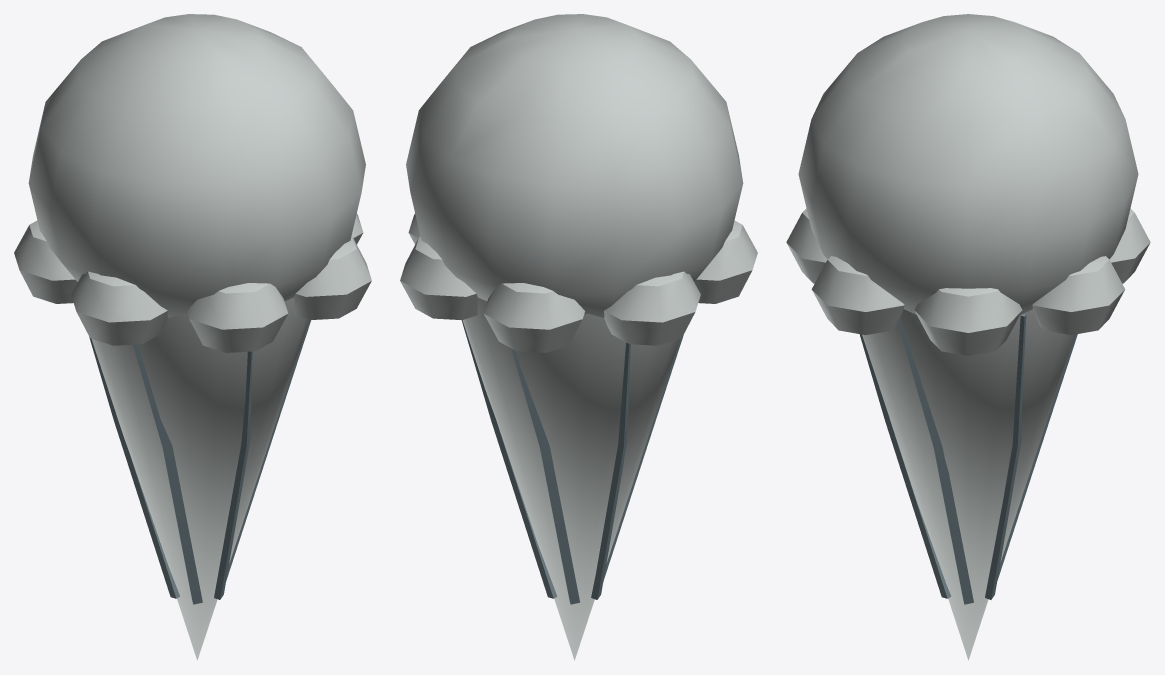
File: ice-cream-cone.glb
3 views of the same model, side by side, from view 1: azimuth 30°, elevation 25°; view 2: azimuth 150°, elevation 25°; view 3: azimuth 270°, elevation 25° (orthographic).
Parts seen in each view (by area): view 1: ice_cream_scoop, waffle_cone, scoop_scallop.002, scoop_scallop.003, scoop_scallop.001, scoop_scallop.004, waffle_ridge_2, waffle_ridge_1, waffle_ridge_3, waffle_ridge_0; view 2: ice_cream_scoop, waffle_cone, scoop_scallop.005, scoop_scallop.004, scoop_scallop.006, scoop_scallop.003, waffle_ridge_4, waffle_ridge_3, waffle_ridge_5, waffle_ridge_2; view 3: ice_cream_scoop, waffle_cone, scoop_scallop, scoop_scallop.006, scoop_scallop.001, waffle_ridge_0, waffle_ridge_5, waffle_ridge_1, scoop_scallop.002, scoop_scallop.005, waffle_ridge_4.
Boxes of the visible parts, x1,y1,x2,y2 form: ice_cream_scoop: (28,14,365,317); waffle_cone: (91,297,309,660); scoop_scallop.002: (187,283,288,352); scoop_scallop.003: (71,271,167,345); scoop_scallop.001: (294,236,371,320); scoop_scallop.004: (14,220,77,303); waffle_ridge_2: (133,344,202,604); waffle_ridge_1: (214,351,252,599); waffle_ridge_3: (89,337,180,598); waffle_ridge_0: (226,320,311,580); ice_cream_scoop: (406,14,743,317); waffle_cone: (462,297,680,660); scoop_scallop.005: (483,283,584,352); scoop_scallop.004: (604,271,700,345); scoop_scallop.006: (400,236,477,320); scoop_scallop.003: (694,220,757,303); waffle_ridge_4: (511,348,579,604); waffle_ridge_3: (591,342,630,599); waffle_ridge_5: (461,320,557,598); waffle_ridge_2: (603,335,683,581); ice_cream_scoop: (798,14,1138,314); waffle_cone: (862,309,1074,660); scoop_scallop: (914,288,1022,355); scoop_scallop.006: (1032,256,1125,335); scoop_scallop.001: (811,256,904,335); waffle_ridge_0: (897,318,973,604); waffle_ridge_5: (985,314,1026,599); waffle_ridge_1: (859,334,951,598); scoop_scallop.002: (786,208,827,283); scoop_scallop.005: (1109,208,1150,283); waffle_ridge_4: (997,334,1077,580).
Size of the model in its own units: 0.0926 by 0.18 by 0.0943.
